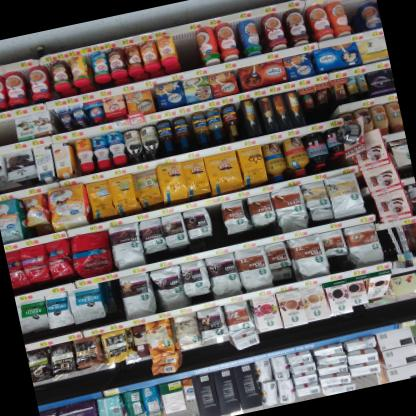empty_space: (169, 24, 202, 72), (204, 196, 230, 249), (0, 110, 18, 150)
